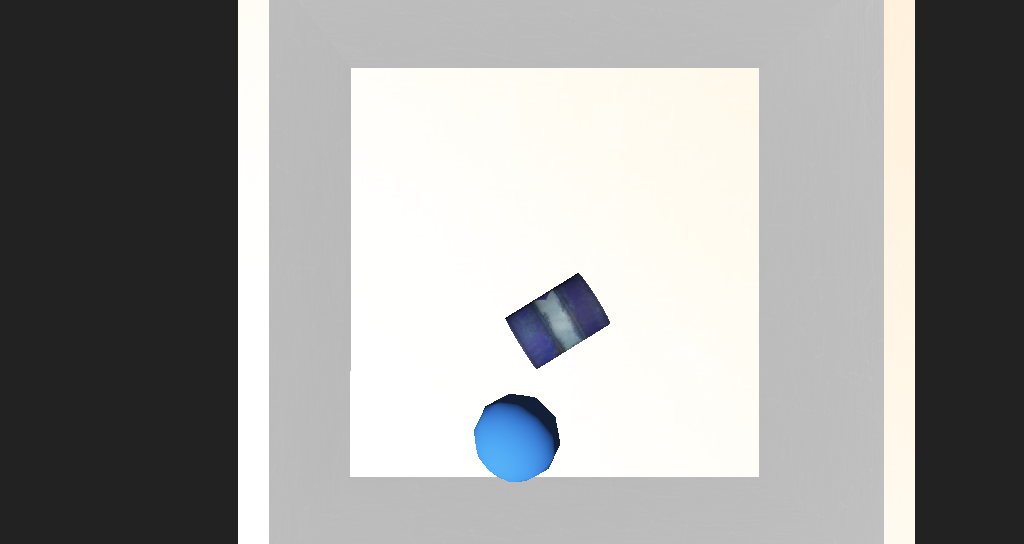cone: (465, 270, 546, 322)
cylinder: (505, 418, 573, 508)
sphere: (448, 332, 509, 375)
